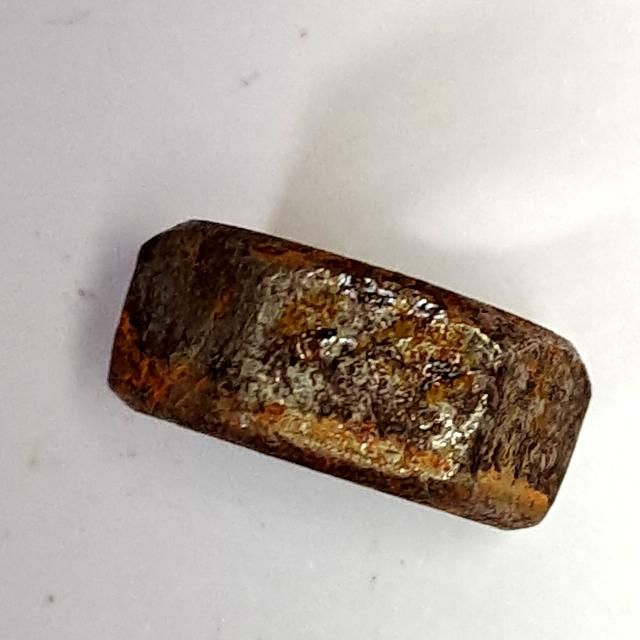Side_Rust: (96, 203, 606, 542)
